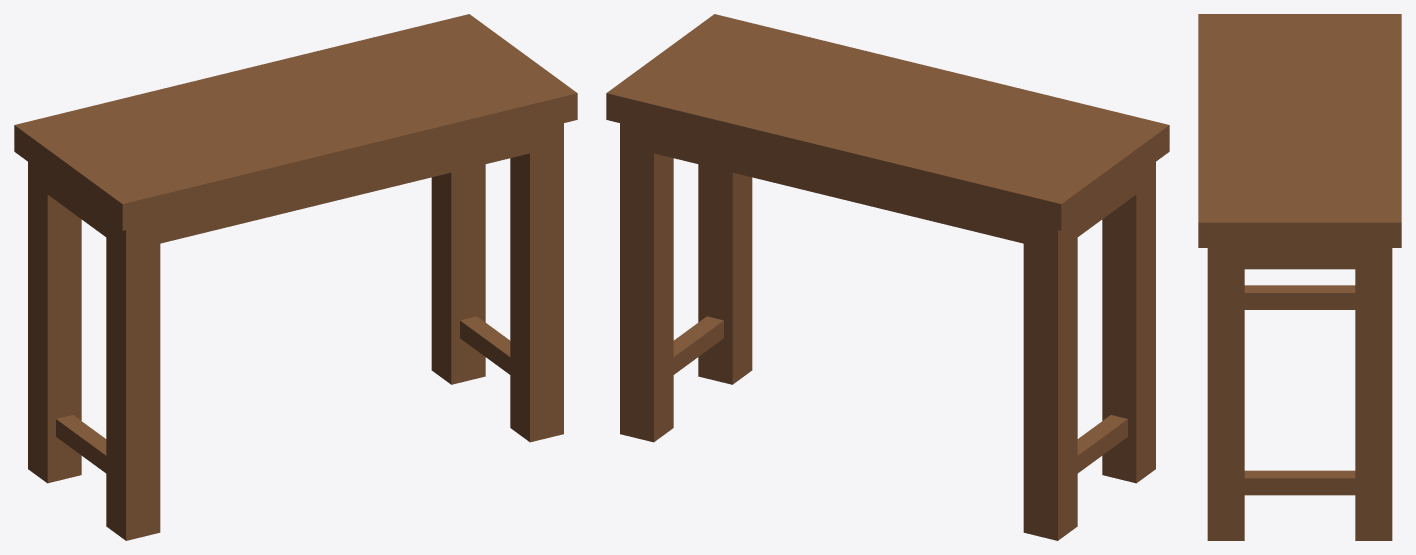
File: m_side_table.glb
3 renders of one model, left to right at view 1: azimuth 30°, elevation 25°; view 2: azimuth 150°, elevation 25°; view 3: azimuth 270°, elevation 25°, orthographic. The views are drawn at different scales.
Parts seen in each view (by area): view 1: sideTable(Clone); view 2: sideTable(Clone); view 3: sideTable(Clone).
Boxes of the visible parts, x1,y1,x2,y2 form: sideTable(Clone): (14,14,577,540); sideTable(Clone): (606,14,1169,540); sideTable(Clone): (1198,14,1401,540).
Size of the model in its own units: 0.7647 by 0.55 by 0.3148.
